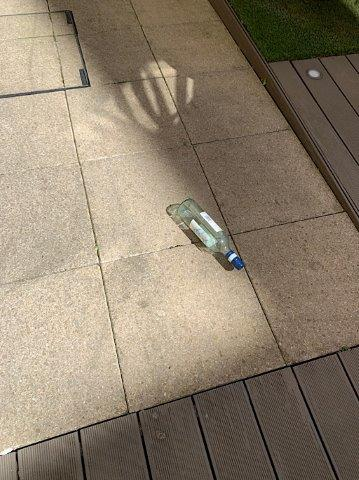botolkaca: (176, 199, 247, 271)
